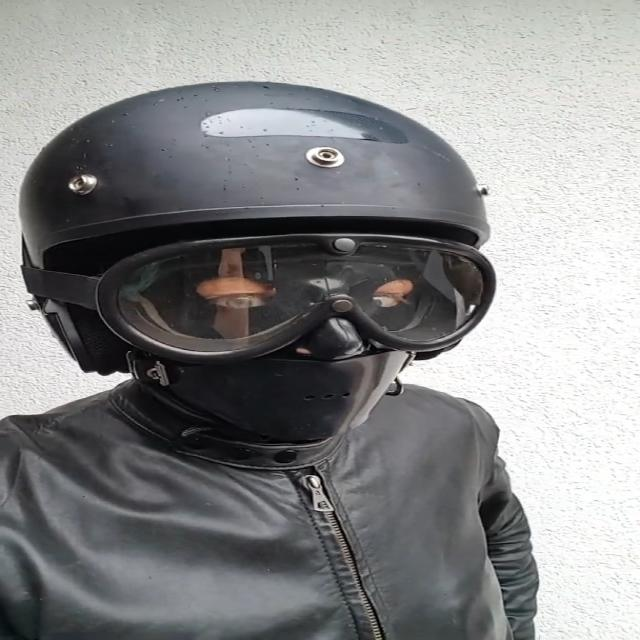Helmet_Wearer: (10, 71, 523, 449)
Jacket_Wearer: (0, 360, 607, 640)
Person: (0, 72, 574, 640)
